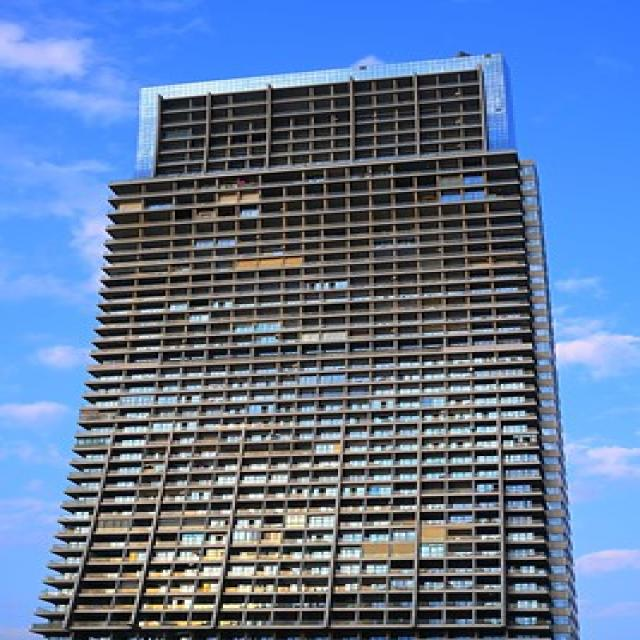Normal_building: (25, 51, 591, 640)
